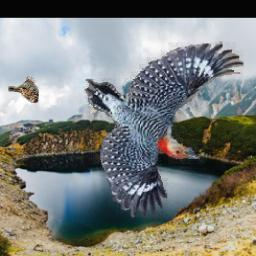Sparrow: (9, 77, 40, 104)
Woodpecker: (85, 42, 245, 217)
